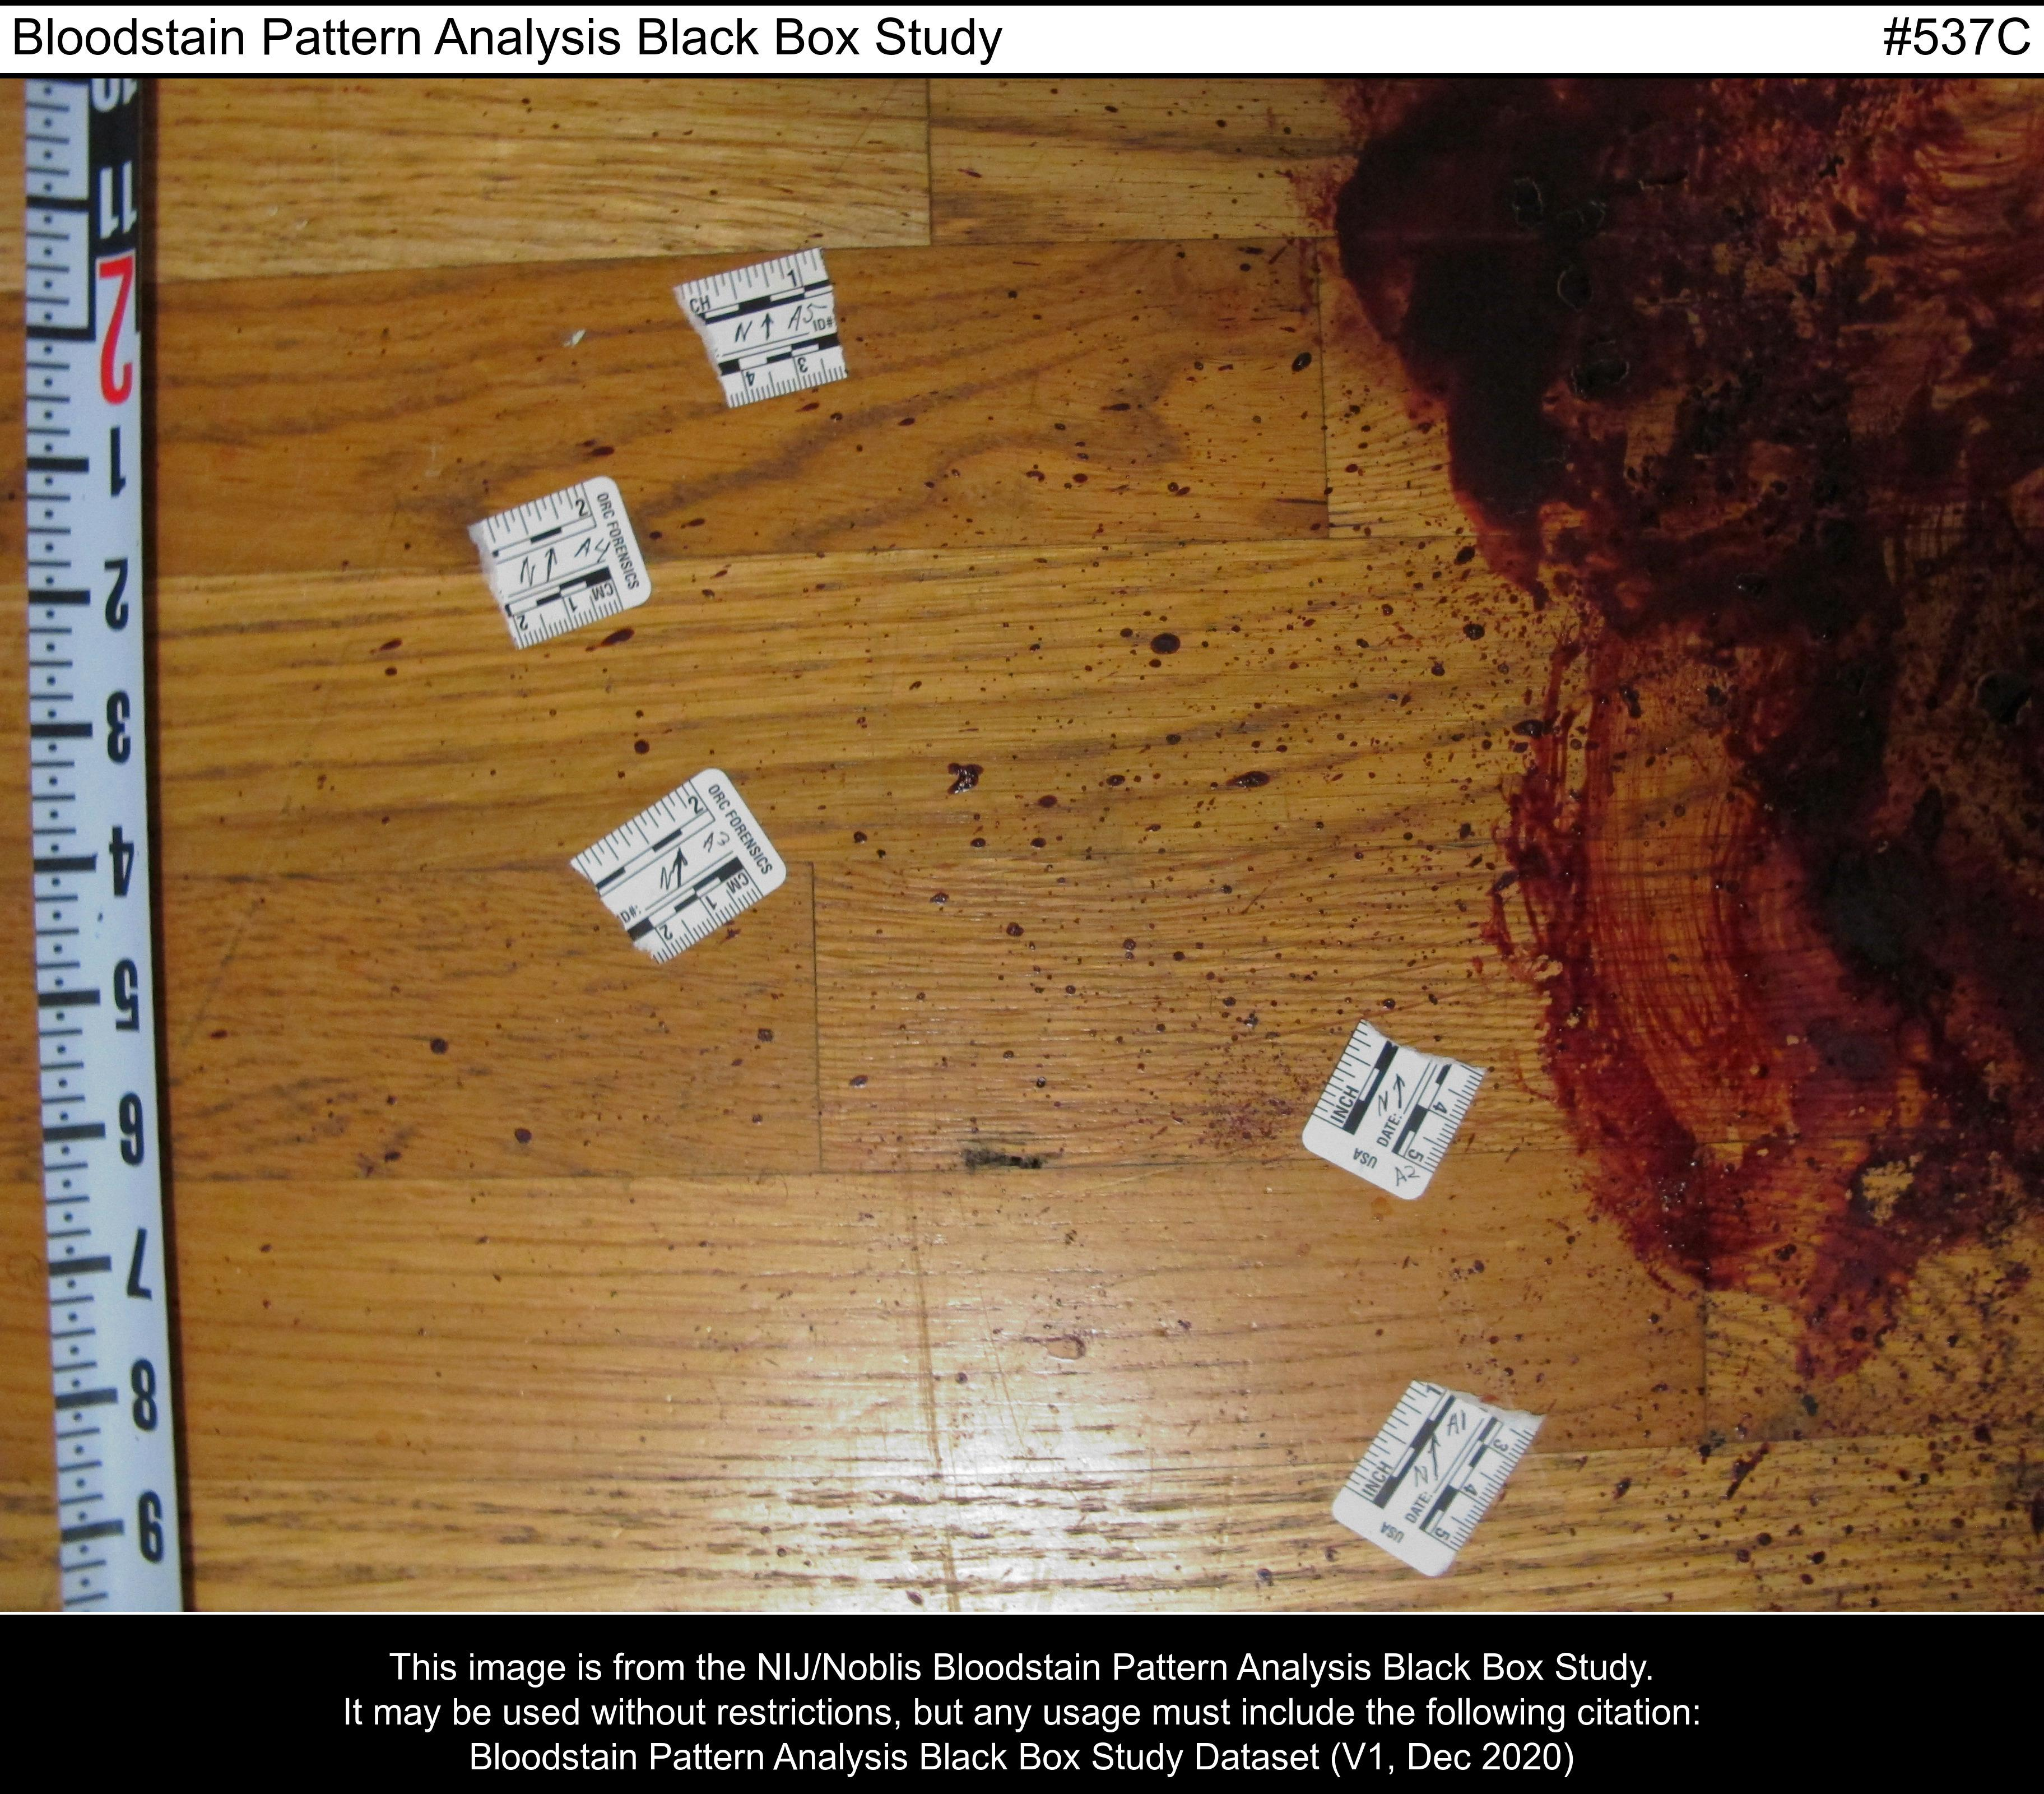Impact: (779, 633, 1267, 993), (1597, 1462, 2044, 1601)
Transfer: (1469, 89, 2028, 1267)
